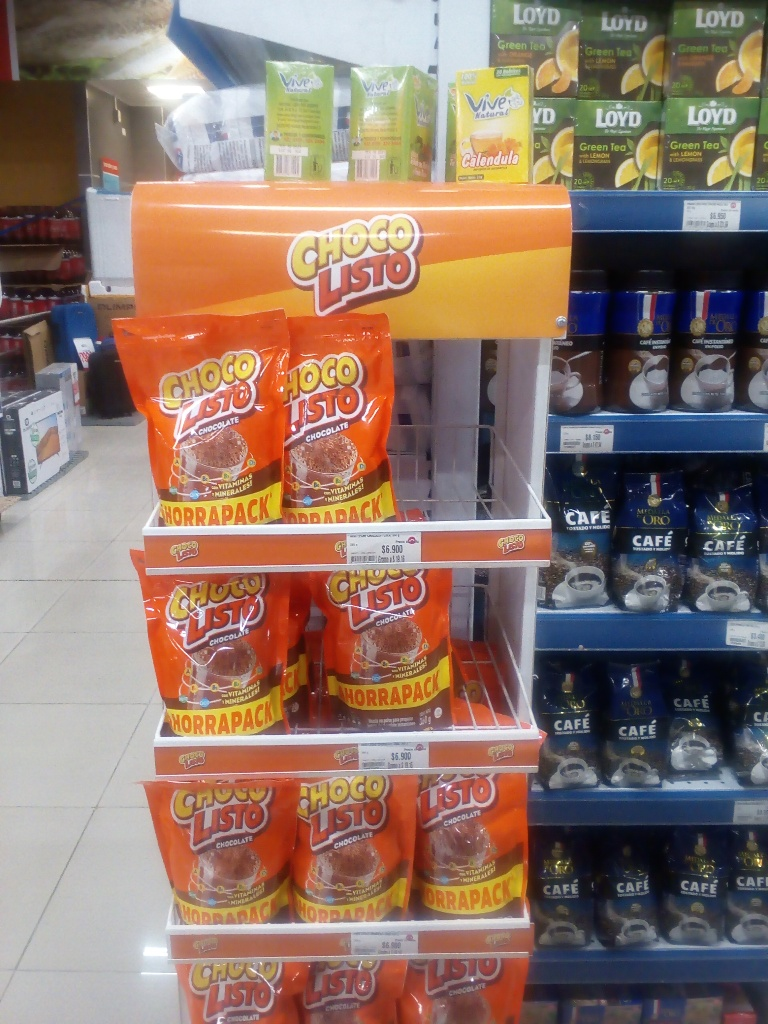COL0170103DYP36000: (140, 781, 300, 923)
